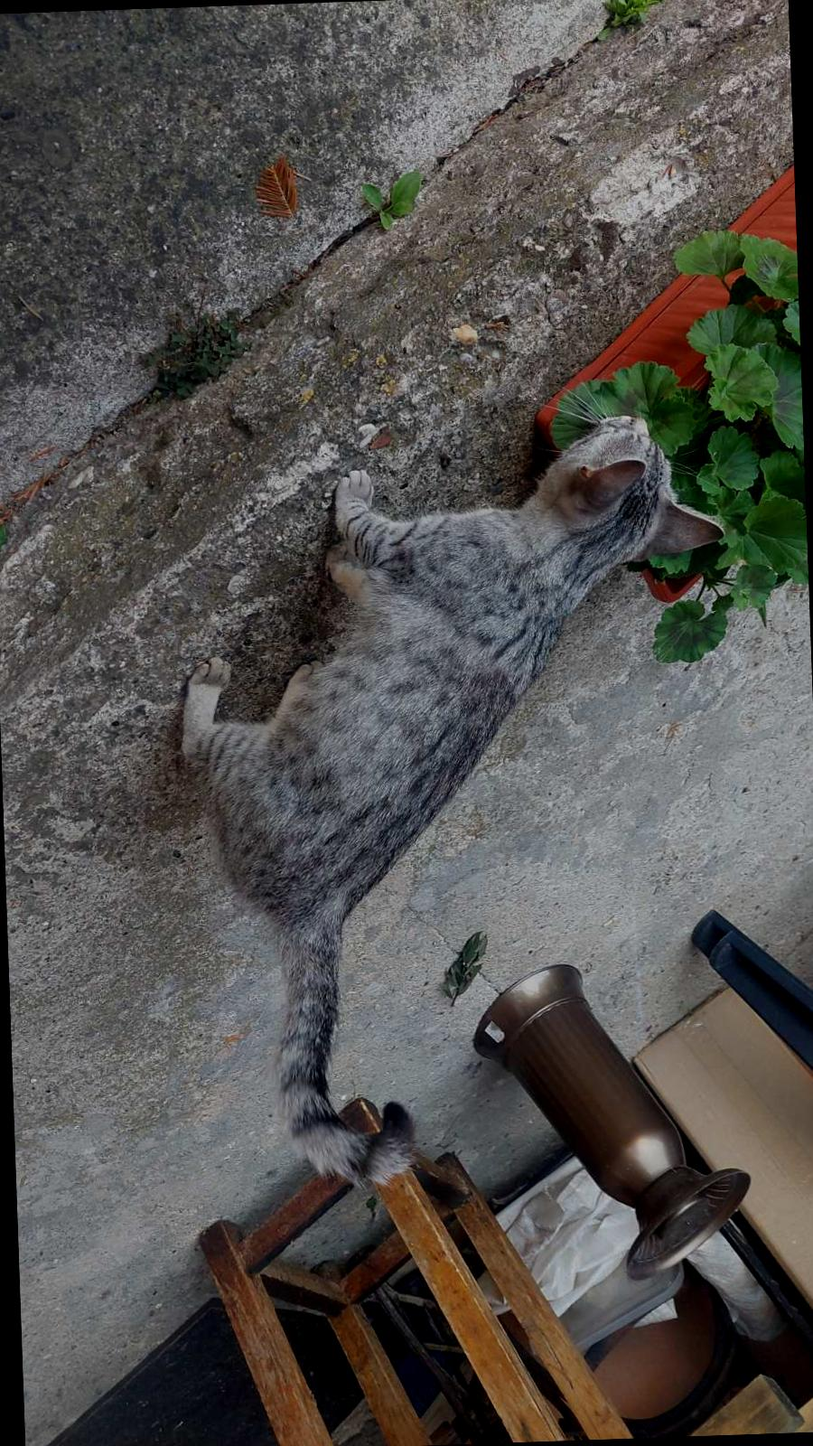macka: (161, 404, 750, 1190)
